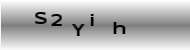2: (49, 13, 64, 27)
S: (33, 11, 47, 25)
Y: (71, 22, 85, 37)
h: (112, 21, 125, 35)
i: (89, 12, 94, 26)
